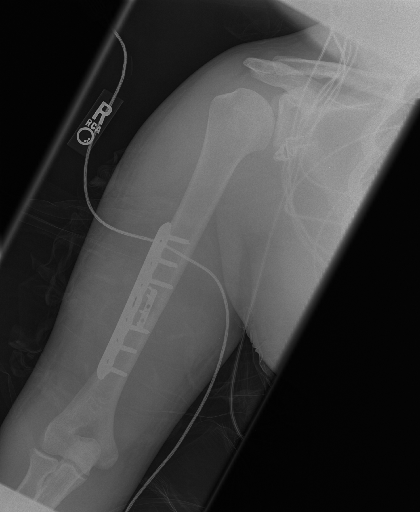implant: (99, 221, 191, 379)
